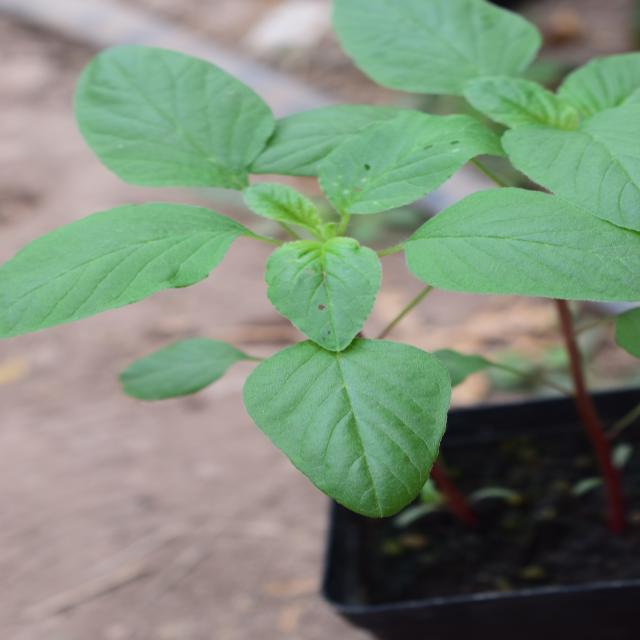pigweed: (155, 28, 592, 568)
